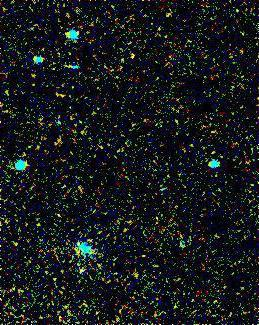star: (43, 80, 73, 110)
